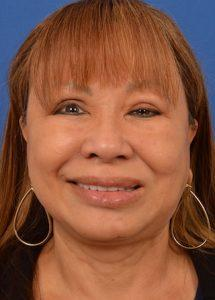strokeEyeMid: (43, 84, 174, 126)
strokeMouthWeak: (63, 173, 153, 209)
